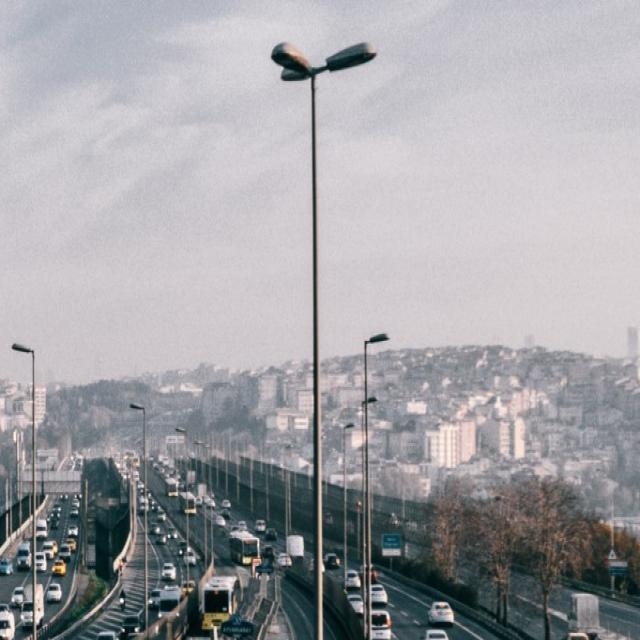bus: (201, 576, 237, 630), (228, 530, 260, 568), (180, 491, 196, 515), (165, 478, 178, 498)
car: (158, 586, 182, 624), (364, 609, 391, 640), (426, 601, 454, 625), (121, 614, 144, 638), (366, 584, 388, 606), (418, 627, 451, 640), (345, 594, 364, 615), (0, 612, 14, 640), (17, 543, 31, 571), (344, 570, 360, 589), (560, 631, 592, 640), (46, 584, 62, 602), (92, 630, 119, 640), (11, 586, 23, 607), (36, 518, 47, 540), (162, 563, 176, 580), (149, 589, 162, 607), (52, 559, 65, 577), (35, 552, 47, 571), (0, 558, 12, 574), (43, 542, 53, 560), (60, 544, 70, 562)
van: (565, 592, 599, 640), (21, 584, 44, 628)
